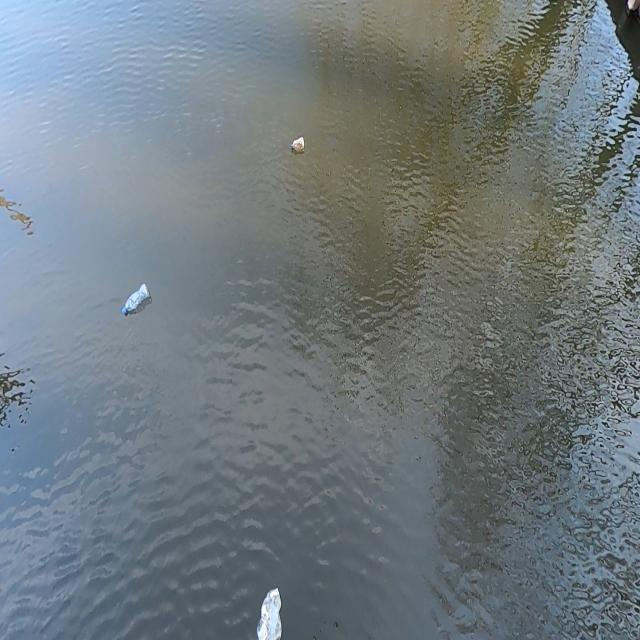Bouteille plastique: (119, 281, 153, 322), (290, 129, 308, 156)
Sac plastique: (256, 578, 287, 640)
